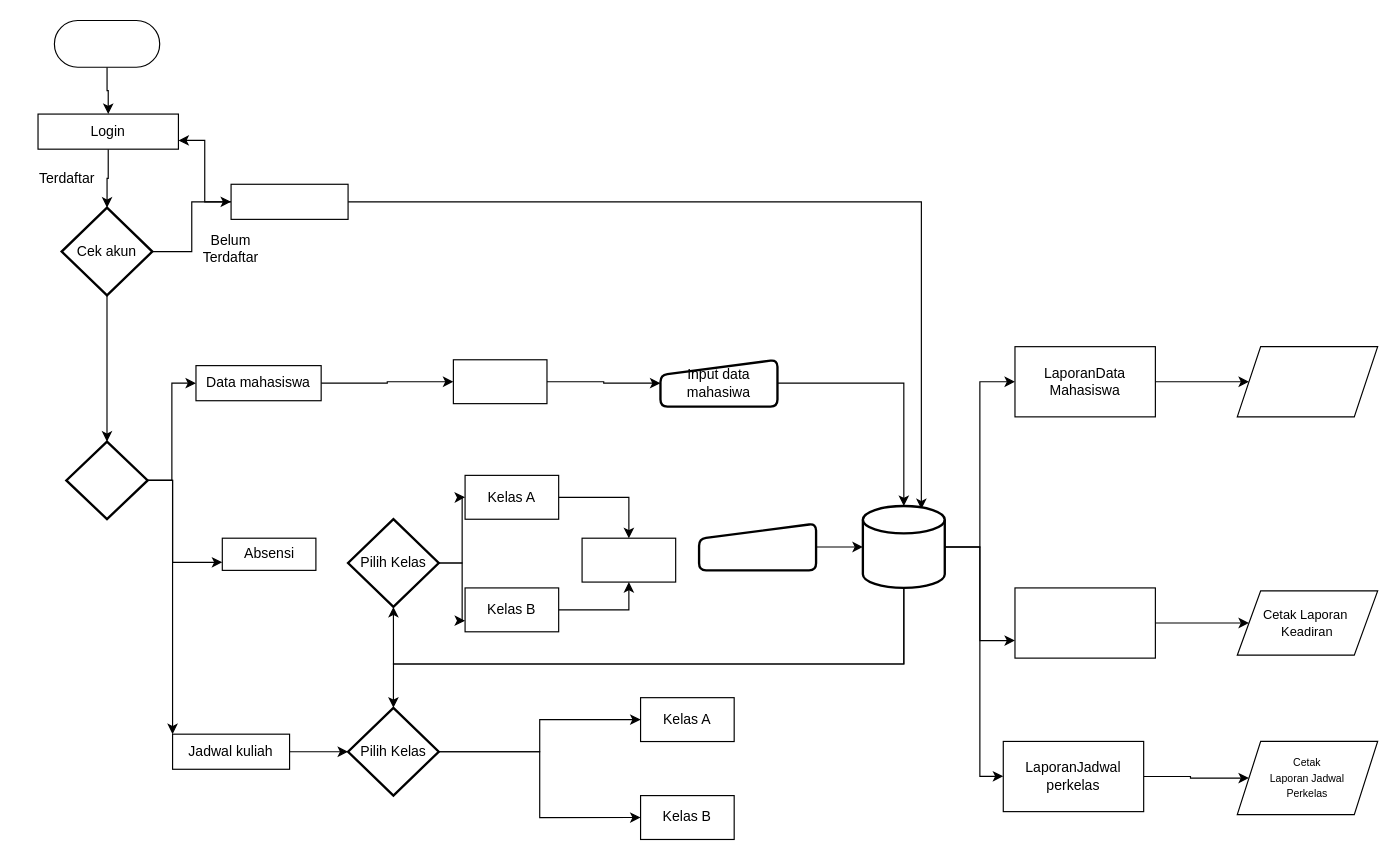
The diagram is 1398 pixels wide and 860 high, and some of its shapes have lost their labels. The shapes that lost their labels are listed below. From the top down, each one's centre as x and y in pixels, then its label:
point (106, 43): Mulai
point (289, 201): Registrasi
point (499, 381): Masukkan Data
point (1307, 381): Cetak laporan Data Mahasiswa
point (106, 480): Dashboard
point (628, 559): Ambil Absen
point (757, 546): Input Absen mahasiwa
point (1084, 622): Laporan kehadiran
